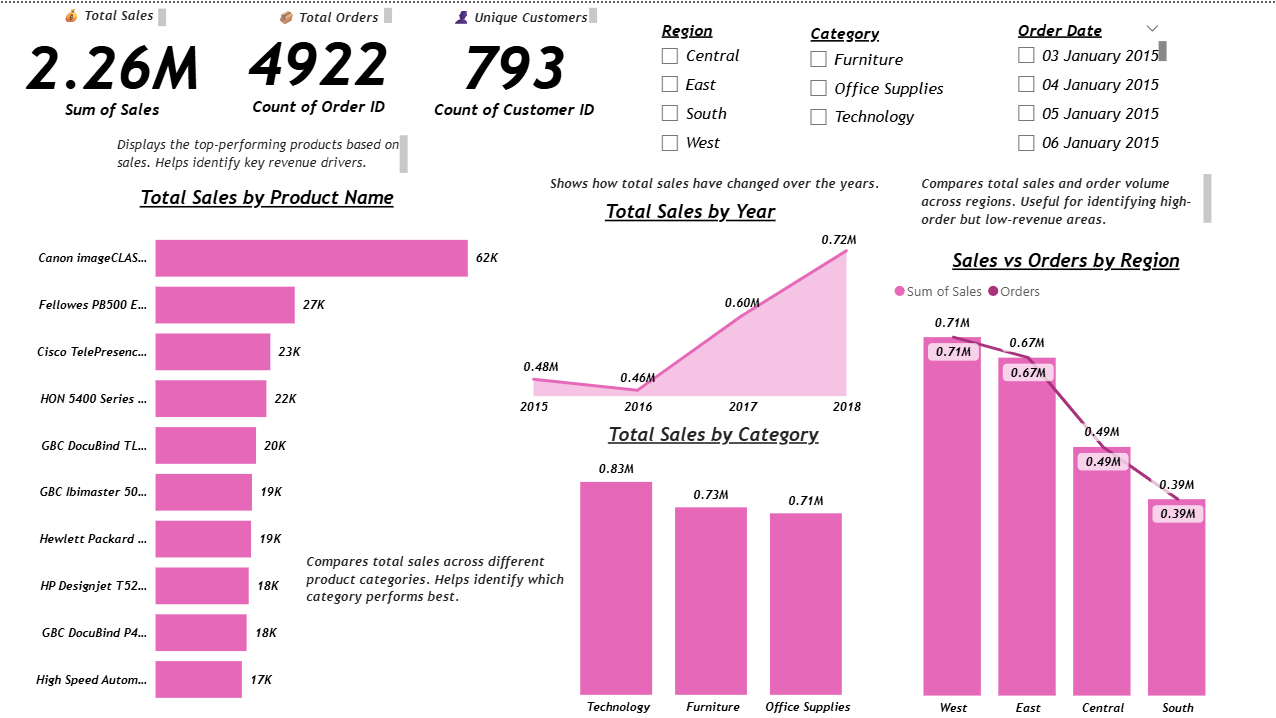

Layout of this report page (visuals, bound fields, positions):
{"tool":"powerbi","page":{"name":"Page 3","canvas":[1280,720],"ordinal":2},"visuals":[{"type":"card","fields":{"Values":["Sum(train.Sales)"]},"box":[18.6,15.7,187.1,105.7],"z":0},{"type":"card","fields":{"Values":["Count(train.Order ID)"]},"box":[240,14.3,157.1,104.3],"z":1000},{"type":"card","fields":{"Values":["Count(train.Customer ID)"]},"box":[425.7,15.7,175.7,105.7],"z":2000},{"type":"lineChart","title":"Total Sales by Year","fields":{"Category":["train.Order Date.Variation.Date Hierarchy.Year","train.Order Date.Variation.Date Hierarchy.Quarter","train.Order Date.Variation.Date Hierarchy.Month","train.Order Date.Variation.Date Hierarchy.Day"],"Y":["Sum(train.Sales)"]},"box":[514.3,197.1,352.9,222.9],"z":3000},{"type":"clusteredColumnChart","title":"Total Sales by Category","fields":{"Category":["train.Category"],"Y":["Sum(train.Sales)"]},"box":[537.1,420,351.4,300],"z":4000},{"type":"lineClusteredColumnComboChart","title":"Sales vs Orders by Region","fields":{"Category":["train.Region"],"Y":["Sum(train.Sales)"],"Y2":["train.Total Sales"]},"box":[888.6,245.7,354.3,474.3],"z":5000},{"type":"barChart","title":"Total Sales by Product Name","fields":{"Category":["train.Product Name"],"Y":["Sum(train.Sales)"]},"box":[18.6,184.3,495.7,535.7],"z":5001},{"type":"slicer","fields":{"Values":["train.Region"]},"box":[648.6,12.9,128.6,152.9],"z":5003},{"type":"slicer","fields":{"Values":["train.Category"]},"box":[797.1,15.7,157.1,152.9],"z":5004},{"type":"slicer","fields":{"Values":["train.Order Date"]},"box":[1005,12.5,166.2,152.5],"z":5005},{"type":"textbox","box":[52.9,0,118.6,40],"z":5006},{"type":"textbox","box":[271.4,0,125.7,32.9],"z":5007},{"type":"textbox","box":[447.1,0,154.3,32.9],"z":5008},{"type":"textbox","box":[545,166.2,371.2,30],"z":5009},{"type":"textbox","box":[301.4,544.3,274.3,84.3],"z":5010},{"type":"textbox","box":[915.7,165.7,300,68.6],"z":5011},{"type":"textbox","box":[112.9,127.1,300,54.3],"z":5012}]}

Visuals, with their boxes in screenshot pixels (x1, y1, x2, y2), scaled from the page's 1280x720 canvas onto the 1276x718 screenshot:
card - Sum(train.Sales): [x1=19, y1=16, x2=205, y2=121]
card - Count(train.Order ID): [x1=239, y1=14, x2=396, y2=118]
card - Count(train.Customer ID): [x1=424, y1=16, x2=600, y2=121]
"Total Sales by Year" lineChart: [x1=513, y1=197, x2=864, y2=419]
"Total Sales by Category" clusteredColumnChart: [x1=535, y1=419, x2=886, y2=717]
"Sales vs Orders by Region" lineClusteredColumnComboChart: [x1=886, y1=245, x2=1239, y2=717]
"Total Sales by Product Name" barChart: [x1=19, y1=184, x2=513, y2=717]
slicer - train.Region: [x1=647, y1=13, x2=775, y2=165]
slicer - train.Category: [x1=795, y1=16, x2=951, y2=168]
slicer - train.Order Date: [x1=1002, y1=12, x2=1168, y2=165]
textbox: [x1=53, y1=0, x2=171, y2=40]
textbox: [x1=271, y1=0, x2=396, y2=33]
textbox: [x1=446, y1=0, x2=600, y2=33]
textbox: [x1=543, y1=166, x2=913, y2=196]
textbox: [x1=300, y1=543, x2=574, y2=627]
textbox: [x1=913, y1=165, x2=1212, y2=234]
textbox: [x1=113, y1=127, x2=412, y2=181]
